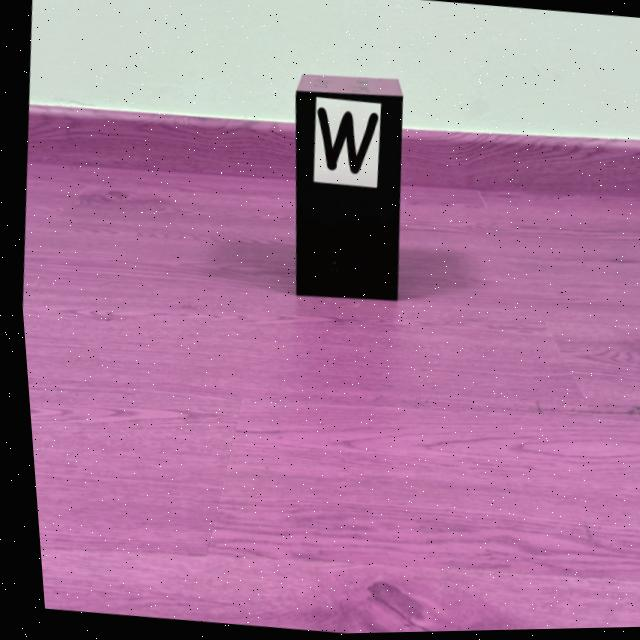W: (315, 108, 376, 176)
